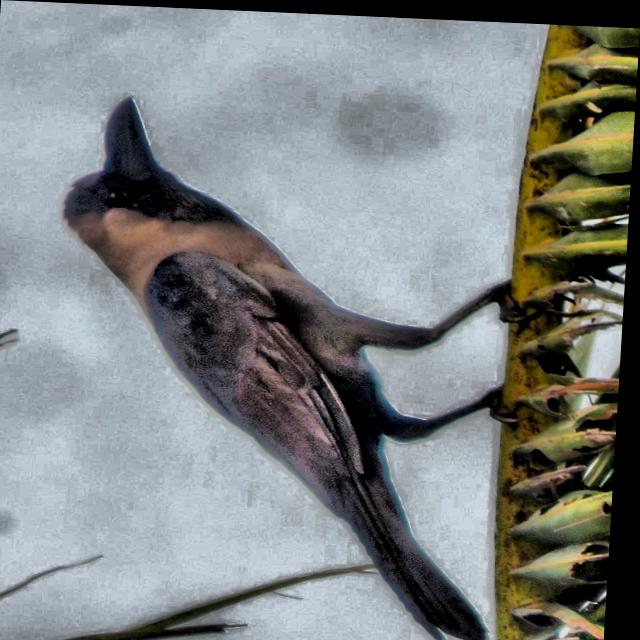crow: (29, 84, 536, 640)
